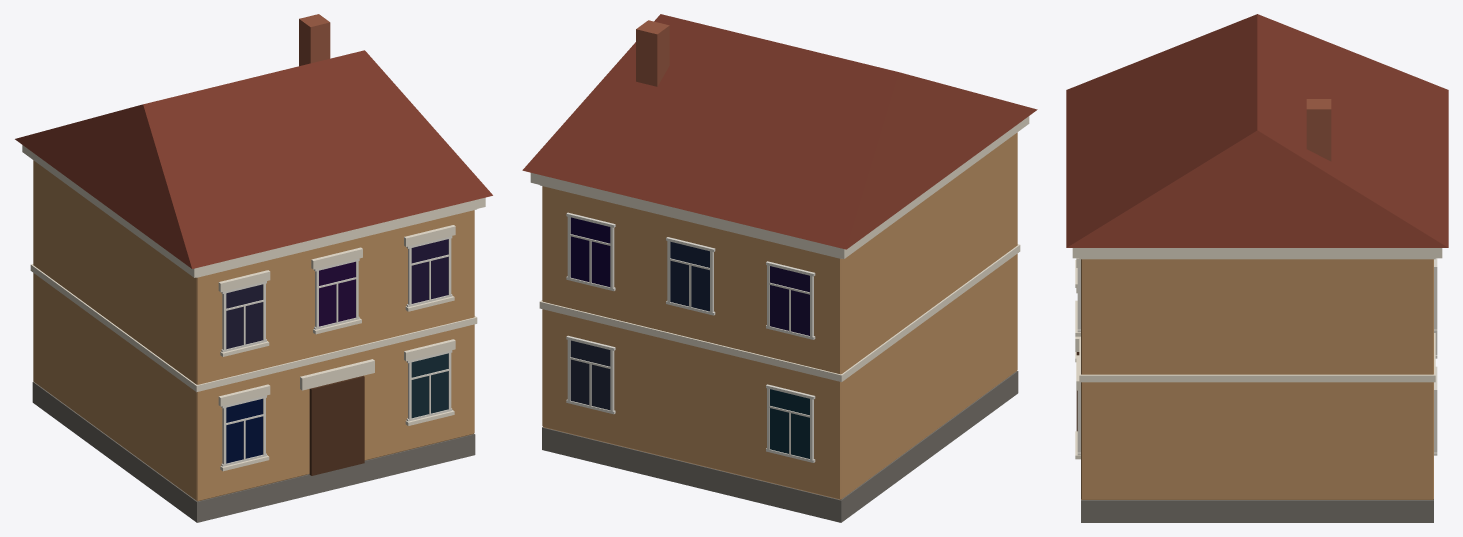
File: old_a.glb
3 renders of one model, left to right at view 1: azimuth 30°, elevation 25°; view 2: azimuth 150°, elevation 25°; view 3: azimuth 270°, elevation 25°, orthographic. The views are drawn at different scales.
Visible parts, largest first — view 1: old_a; view 2: old_a; view 3: old_a.
Boxes of the visible parts, x1=… form: old_a: x1=15, y1=14, x2=492, y2=522; old_a: x1=522, y1=14, x2=1037, y2=522; old_a: x1=1066, y1=14, x2=1448, y2=522.
Bounding box in the file's own units: 9.1 × 10.55 × 9.3.
